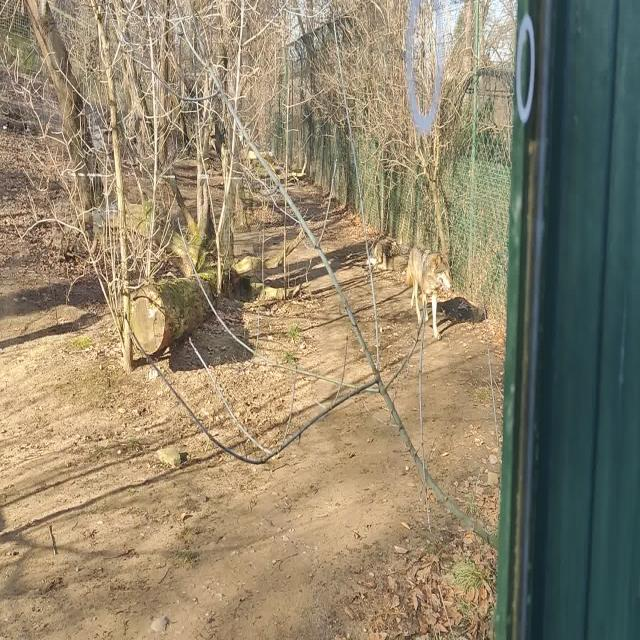dog: (406, 246, 453, 340)
